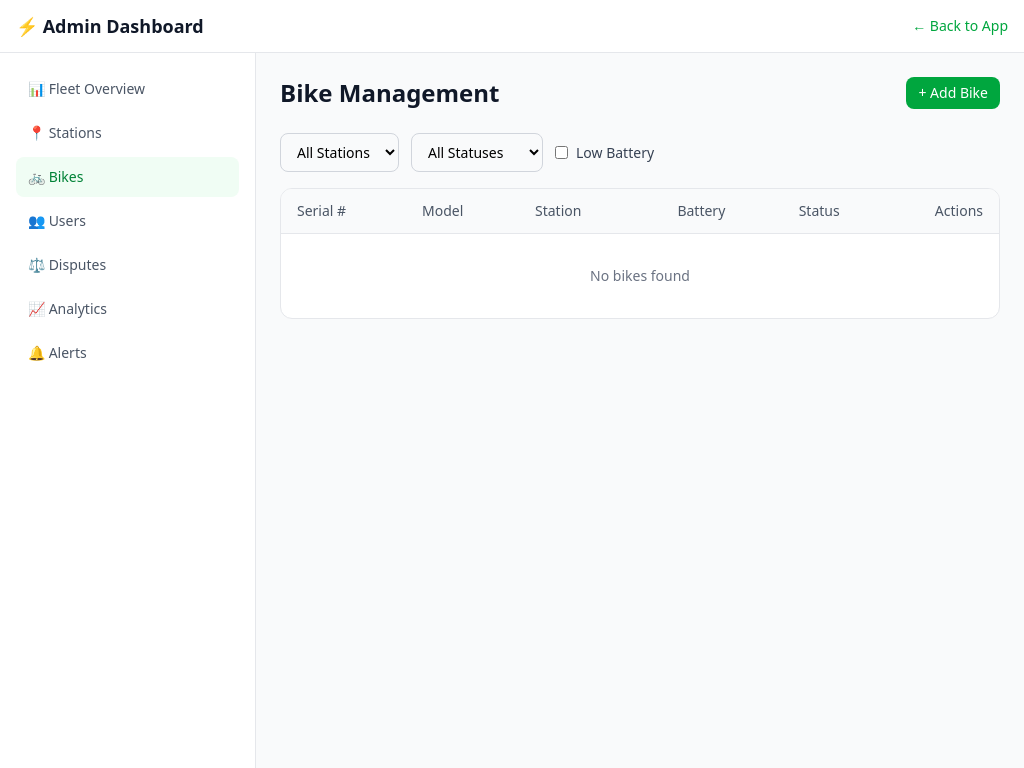
BikeManagement › opens add bike modal
This screenshot has width=1024, height=768.
Expected: the heading "Bike Management" is shown, [280,77,500,109]
Click the button "+ Add Bike" at point(953, 93), box [906,77,1000,109]
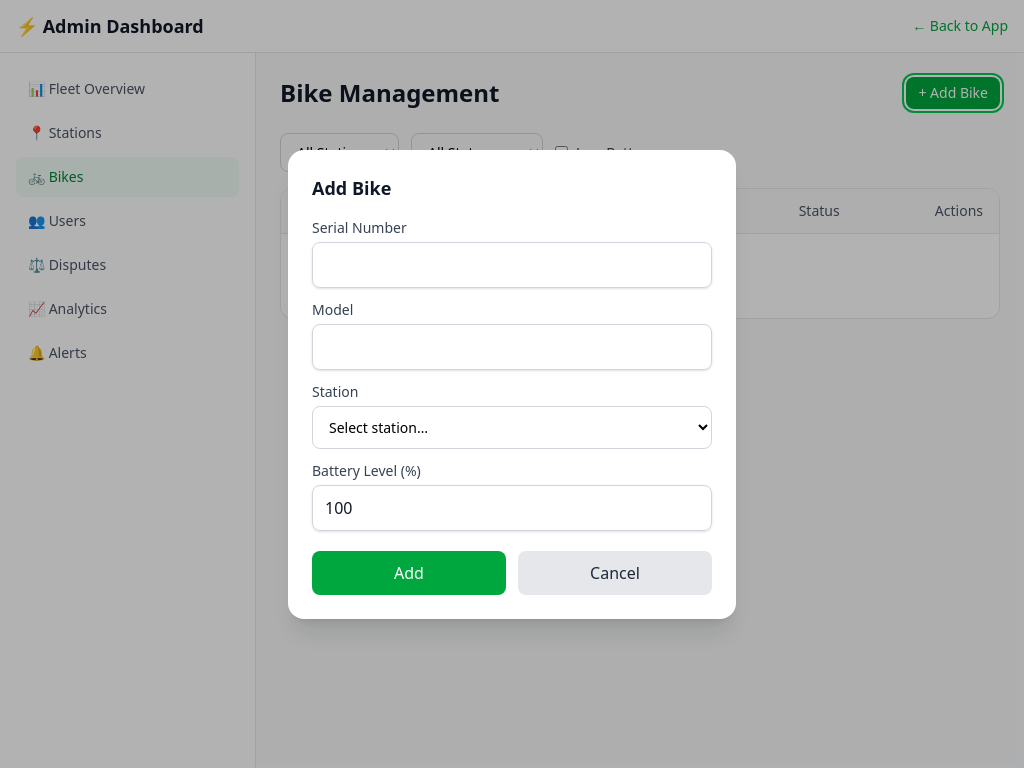
Now the heading "Add Bike" is shown, box [312,176,391,200]
